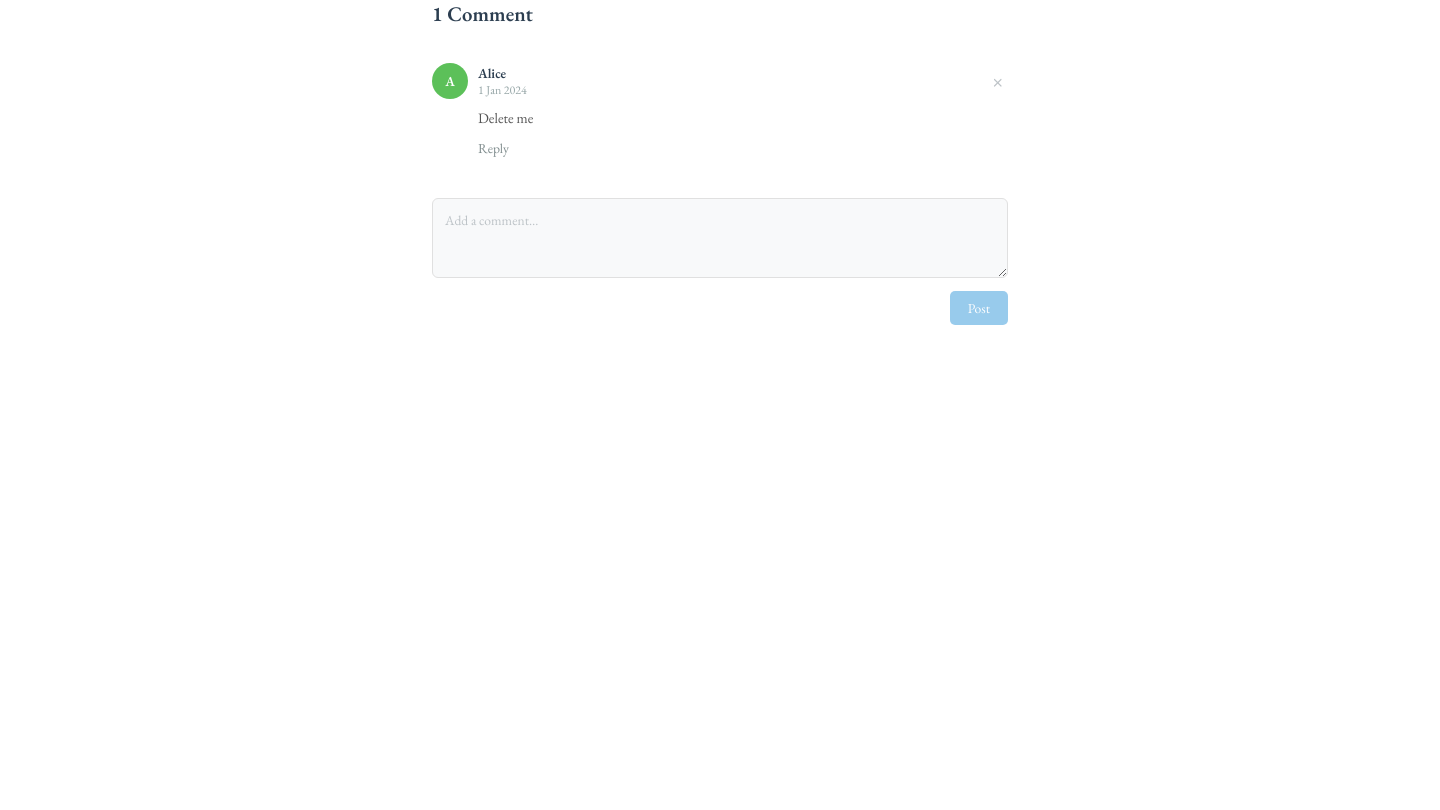
Test: deleting a comment › DELETEs from API and comment disappears after modal confirm
The image size is (1440, 810).
Expected: the text "Delete me" is shown, [478, 108, 533, 127]
Click the button named "delete comment" at x=998, y=81, box [988, 71, 1008, 91]
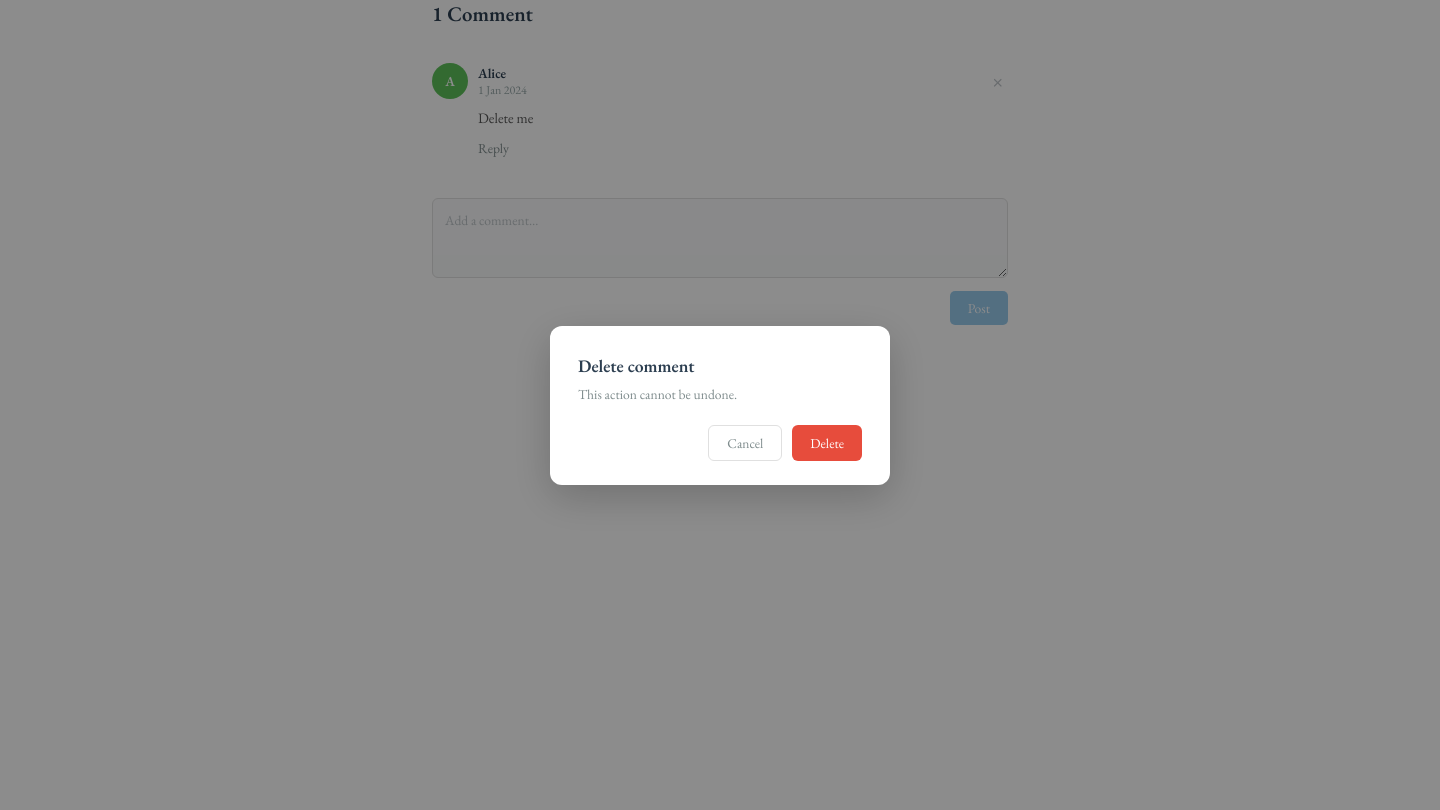
Click the button "Delete" at x=827, y=442, box [792, 424, 862, 460]
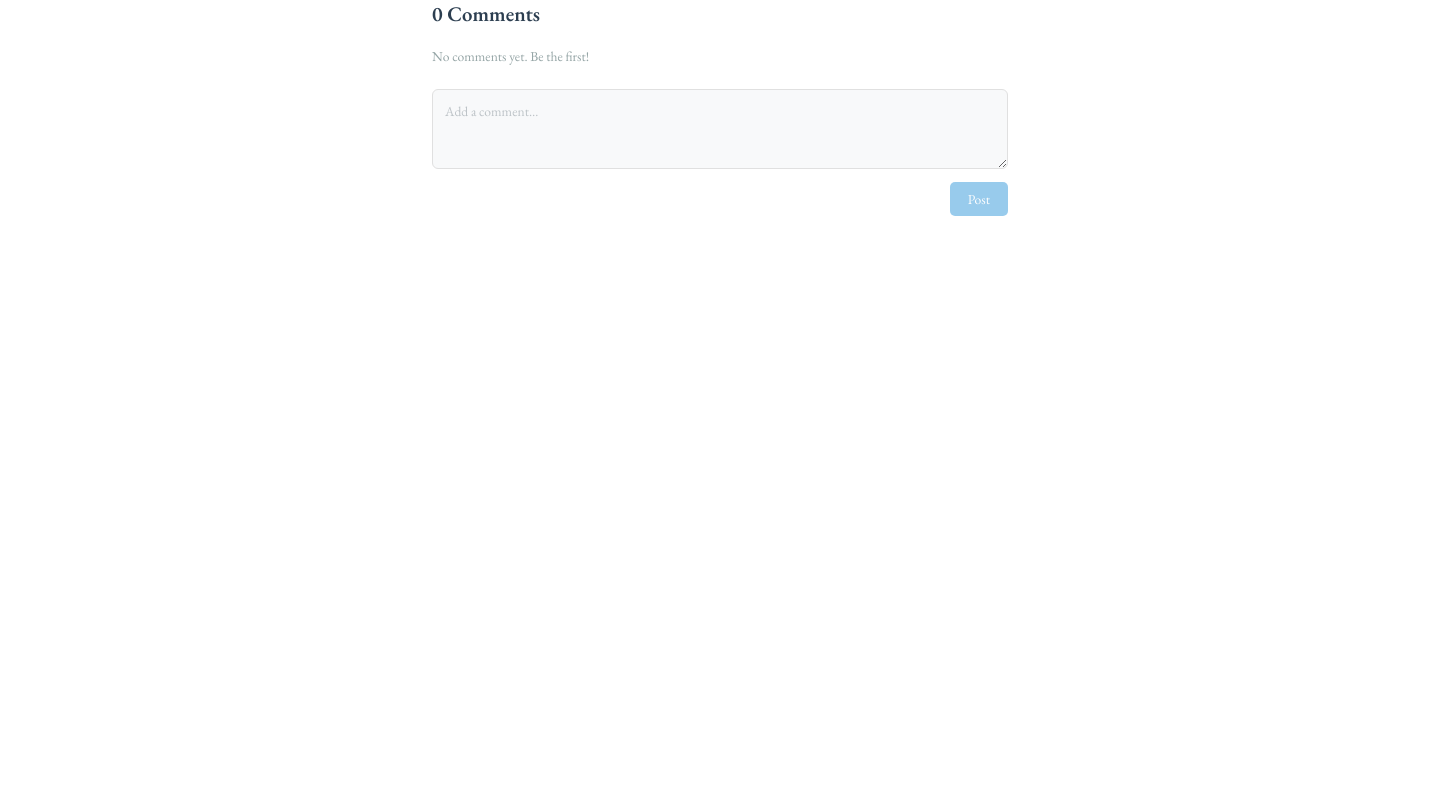
Result: the text "Delete me" is gone
